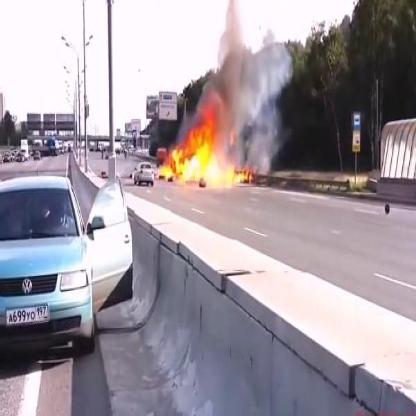fire: (157, 105, 262, 192)
